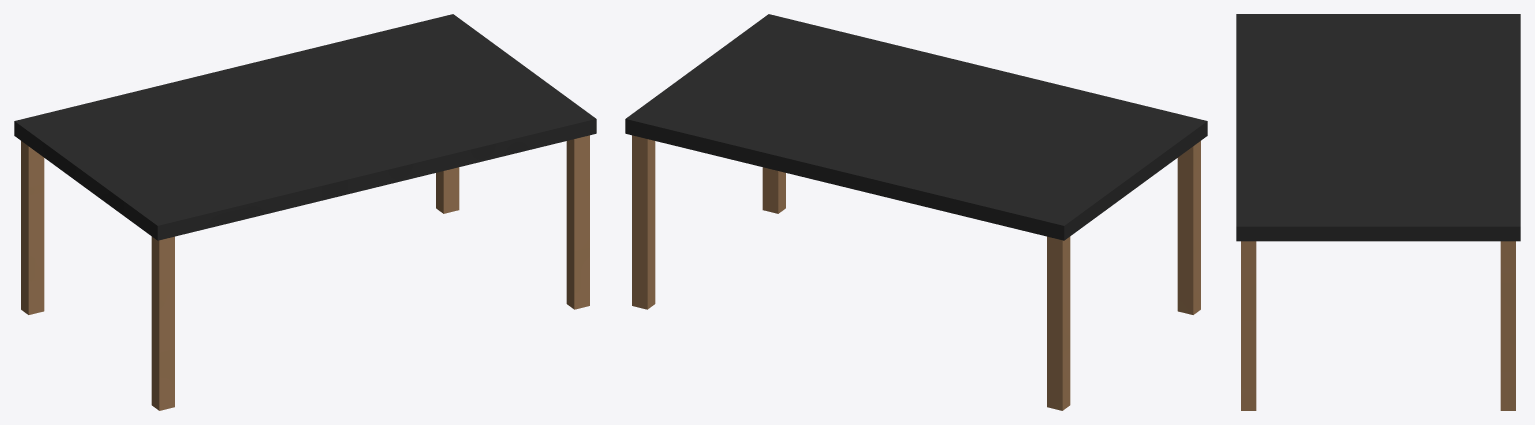
The model's file is Desk_01_05.fbx.
3 views of the same model, side by side, from view 1: azimuth 30°, elevation 25°; view 2: azimuth 150°, elevation 25°; view 3: azimuth 270°, elevation 25° (orthographic).
Parts seen in each view (by area): view 1: Desk_01_05; view 2: Desk_01_05; view 3: Desk_01_05.
Boxes of the visible parts, left/top/right/bottom form: Desk_01_05: left=14, top=14, right=596, bottom=410; Desk_01_05: left=625, top=14, right=1207, bottom=410; Desk_01_05: left=1236, top=14, right=1520, bottom=410.
Bounding box in the file's own units: 1.98 × 0.8103 × 1.12.
